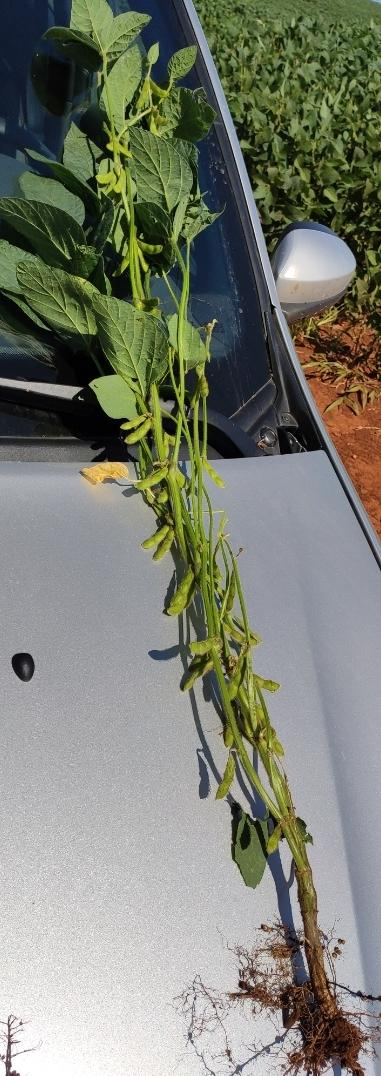soja: (161, 577, 196, 622), (110, 253, 150, 290), (209, 755, 241, 795), (132, 458, 162, 500), (198, 454, 233, 490), (131, 228, 167, 259), (177, 665, 210, 696), (227, 658, 253, 697), (194, 621, 218, 663), (263, 816, 286, 858), (248, 672, 286, 696), (139, 519, 169, 549), (147, 74, 178, 103), (223, 623, 252, 653), (156, 532, 179, 568), (92, 141, 129, 162), (135, 81, 157, 115), (217, 715, 237, 750), (264, 739, 291, 763), (196, 374, 221, 398), (126, 423, 151, 444), (119, 415, 147, 433), (96, 171, 119, 189), (153, 490, 169, 510)
